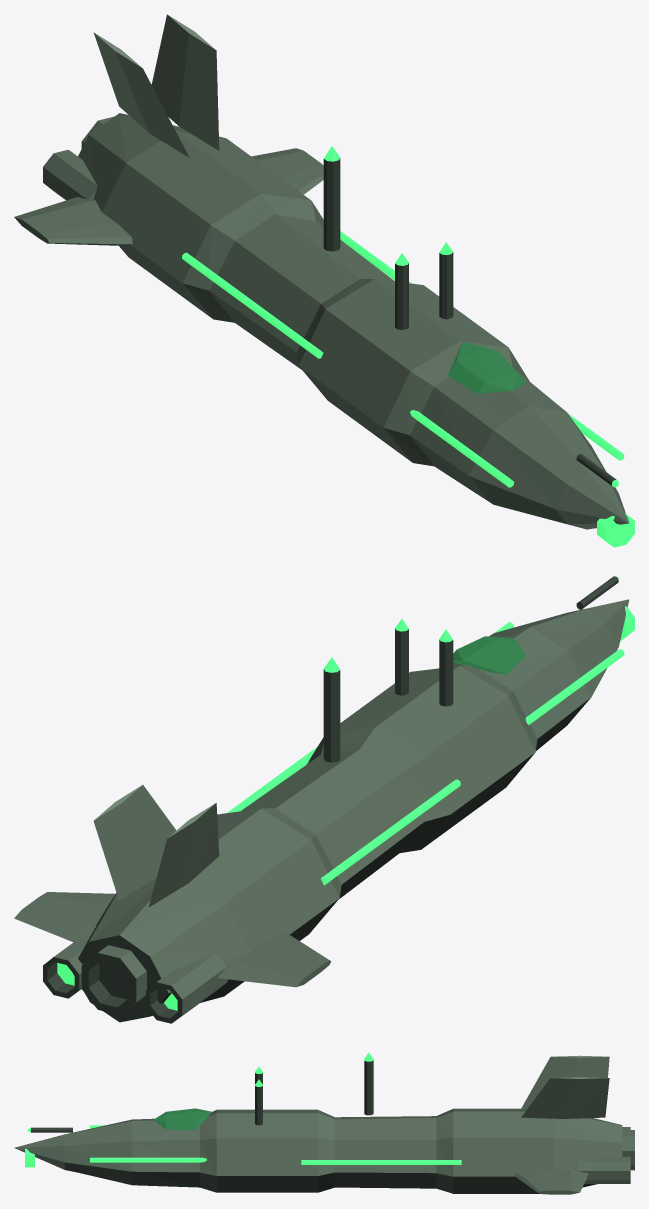
The model's file is arcwing-carrier-hull.gltf.
The picture shows the model from 3 angles, top to bottom: view 1: azimuth 30°, elevation 25°; view 2: azimuth 150°, elevation 25°; view 3: azimuth 270°, elevation 25°; orthographic projection. The views are drawn at different scales.
Visible parts, largest first — view 1: arcwing-carrier; view 2: arcwing-carrier; view 3: arcwing-carrier.
Part boxes in pixels (x1=…): arcwing-carrier: x1=14, y1=14, x2=634, y2=547; arcwing-carrier: x1=14, y1=576, x2=634, y2=1023; arcwing-carrier: x1=14, y1=1052, x2=634, y2=1194.
Size of the model in its own units: 2.3 by 1.82 by 7.35.
